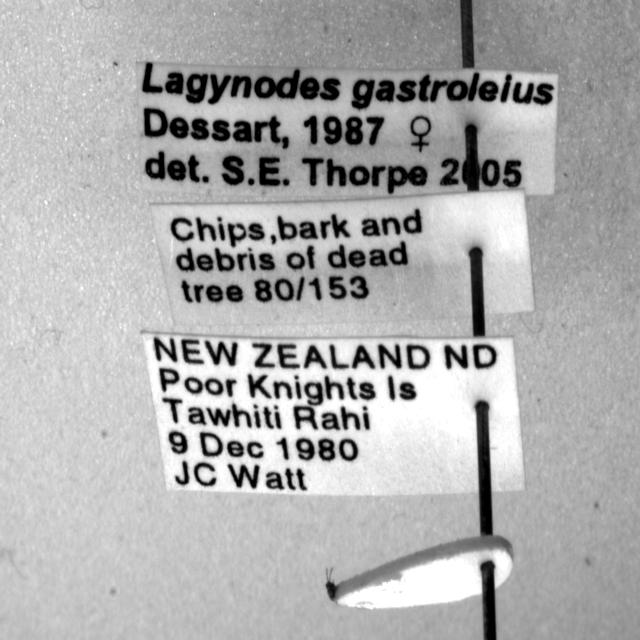typed_label: (142, 334, 525, 495), (136, 62, 558, 199), (151, 189, 535, 324)
